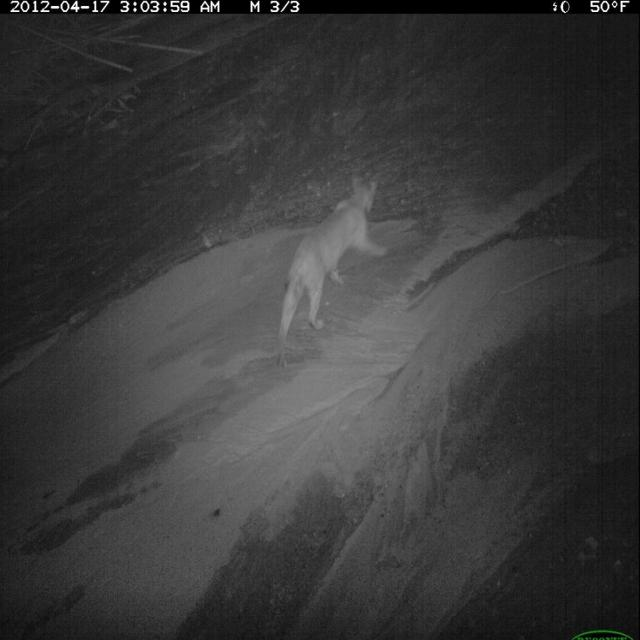bobcat: (272, 169, 390, 374)
